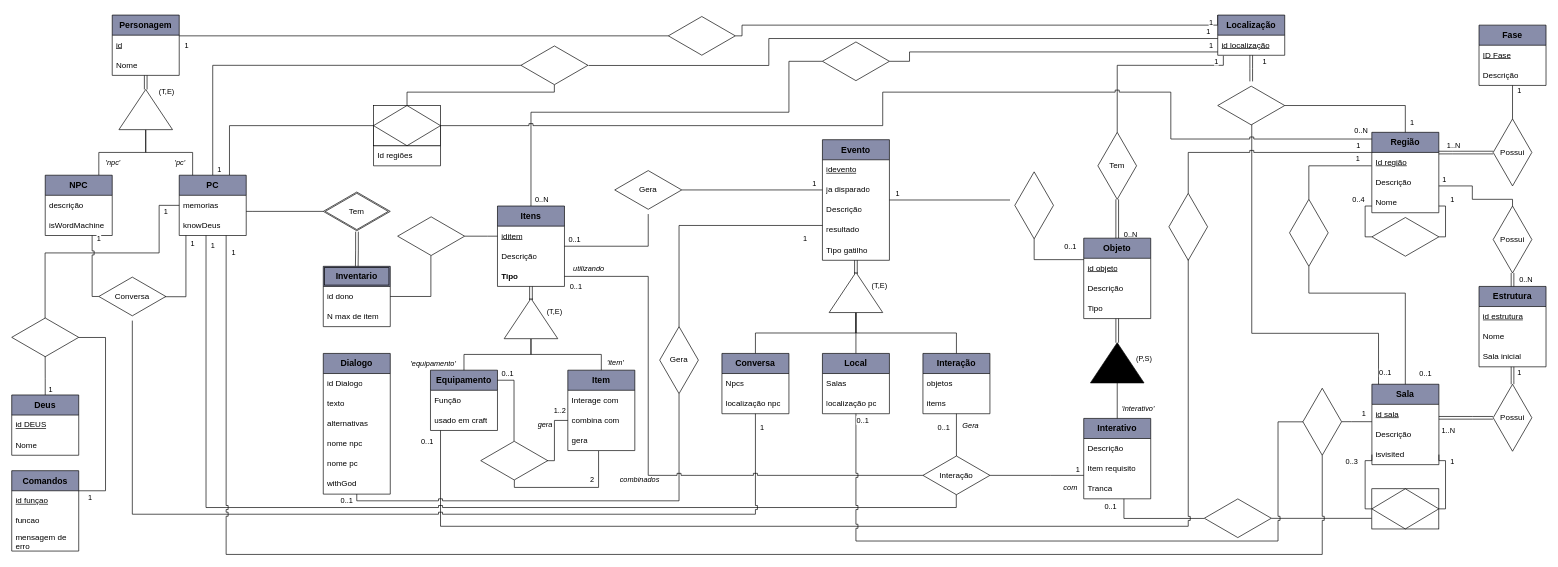
The diagram is 1558 pixels wide and 567 high, and some of its shapes have lost their labels. The centre of each missing label's shape, as x and y in pixels:
"Altera" belongs at pixel 1033 205.
"Aponta" belongs at pixel 1251 105.
"Combina" belongs at pixel 514 460.
"conecta" belongs at pixel 1405 236.
"Conexão" belongs at pixel 1405 508.
"Controla" belongs at pixel 45 337.
"Está" belongs at pixel 701 35.
"Guarda" belongs at pixel 431 235.
"Podem Ter" belongs at pixel 855 61.
"Regiões Visitadas" belongs at pixel 407 125.
"Saida" belongs at pixel 1308 232.
"Trava" belongs at pixel 1237 517.
"Viagem Rapida" belongs at pixel 554 65.
"Visitar 1ª vez" belongs at pixel 1321 421.
"É pre requisito" belongs at pixel 1187 226.
